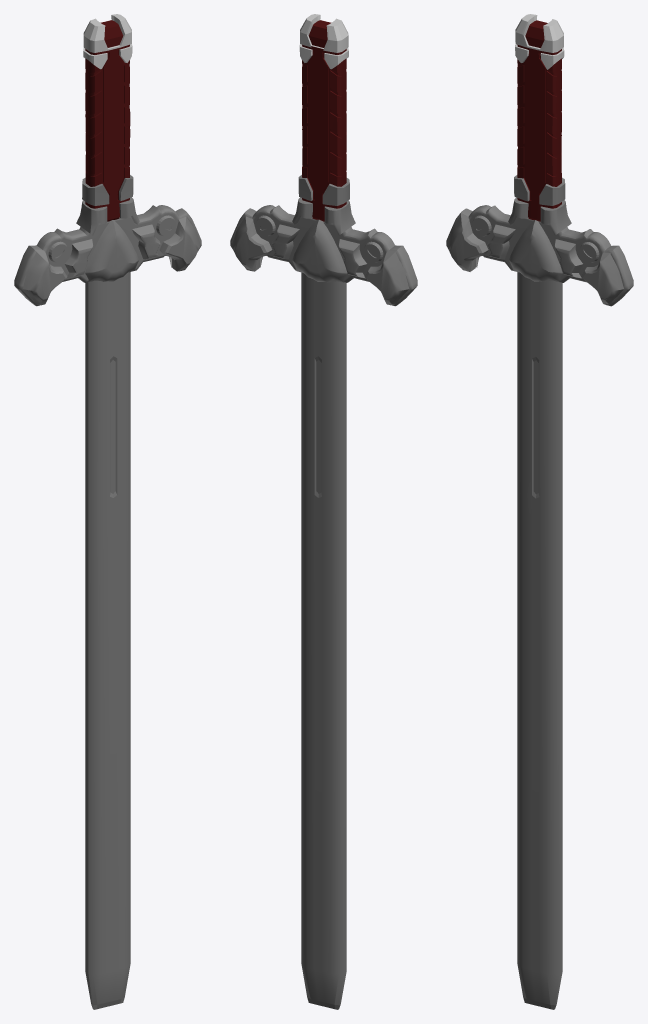
Rendered from Sword.obj.
The picture shows the model from 3 angles, left to right: view 1: azimuth 30°, elevation 25°; view 2: azimuth 150°, elevation 25°; view 3: azimuth 330°, elevation 25°; orthographic projection.
Visible parts, largest first — view 1: pCube3, group pasted__polySurface1 pasted__Handle, Cross_Guard_Base, Hitl_Crest polySurface8, pCube1 polySurface10, Hilt_Detail1, polySurface11 pCube1, pCube2, Handle polySurface2; view 2: pCube3, group pasted__polySurface1 pasted__Handle, Cross_Guard_Base, polySurface9 Hitl_Crest, pCube1 polySurface12, Hilt_Detail1, pCube1 polySurface13, pCube2, Handle polySurface2; view 3: pCube3, group pasted__polySurface1 pasted__Handle, Cross_Guard_Base, Hitl_Crest polySurface8, Hilt_Detail1, pCube1 polySurface10, polySurface11 pCube1, pCube2, polySurface3 Handle.
Part boxes in pixels (x1=…): pCube3: x1=85, y1=272, x2=130, y2=1009; group pasted__polySurface1 pasted__Handle: x1=83, y1=14, x2=132, y2=221; Cross_Guard_Base: x1=14, y1=205, x2=201, y2=306; Hitl_Crest polySurface8: x1=85, y1=220, x2=138, y2=281; pCube1 polySurface10: x1=22, y1=250, x2=67, y2=305; Hilt_Detail1: x1=65, y1=224, x2=160, y2=278; polySurface11 pCube1: x1=159, y1=217, x2=200, y2=271; pCube2: x1=76, y1=197, x2=139, y2=235; Handle polySurface2: x1=82, y1=177, x2=109, y2=205; pCube3: x1=301, y1=272, x2=346, y2=1009; group pasted__polySurface1 pasted__Handle: x1=299, y1=14, x2=348, y2=221; Cross_Guard_Base: x1=230, y1=205, x2=417, y2=306; polySurface9 Hitl_Crest: x1=292, y1=219, x2=347, y2=282; pCube1 polySurface12: x1=364, y1=250, x2=409, y2=305; Hilt_Detail1: x1=271, y1=224, x2=366, y2=278; pCube1 polySurface13: x1=231, y1=216, x2=272, y2=271; pCube2: x1=292, y1=197, x2=355, y2=235; Handle polySurface2: x1=322, y1=178, x2=349, y2=205; pCube3: x1=517, y1=272, x2=562, y2=1009; group pasted__polySurface1 pasted__Handle: x1=515, y1=14, x2=564, y2=221; Cross_Guard_Base: x1=446, y1=205, x2=633, y2=306; Hitl_Crest polySurface8: x1=509, y1=220, x2=562, y2=282; Hilt_Detail1: x1=487, y1=224, x2=583, y2=278; pCube1 polySurface10: x1=447, y1=214, x2=488, y2=271; polySurface11 pCube1: x1=581, y1=252, x2=623, y2=304; pCube2: x1=508, y1=197, x2=571, y2=235; polySurface3 Handle: x1=539, y1=177, x2=565, y2=205.
Bounding box in the file's own units: 3.22 × 16.6 × 0.5708.
